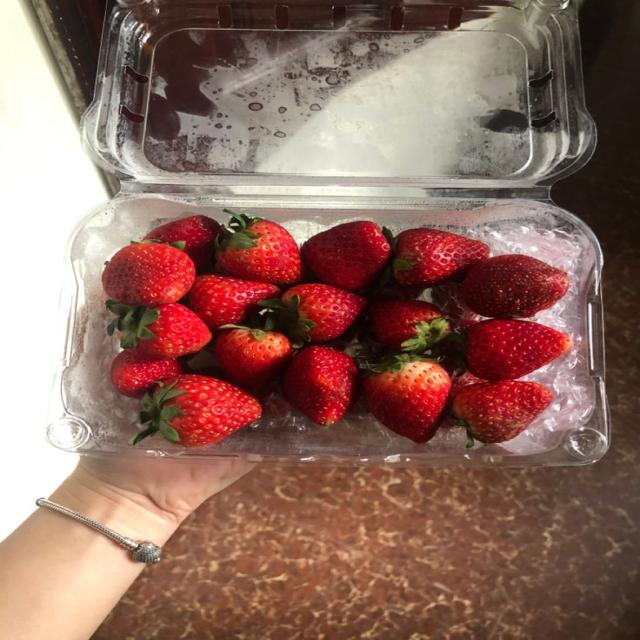strawberry: (133, 375, 261, 446), (363, 355, 450, 442), (453, 381, 553, 447), (462, 255, 568, 317), (260, 284, 366, 345), (216, 210, 302, 285), (467, 320, 572, 380), (302, 221, 391, 290), (283, 346, 358, 426), (107, 301, 211, 358), (102, 242, 194, 305), (394, 229, 489, 287), (214, 327, 293, 389), (188, 275, 279, 328), (144, 215, 219, 270), (369, 301, 449, 352), (110, 350, 186, 397), (442, 370, 486, 427), (450, 371, 486, 398)
